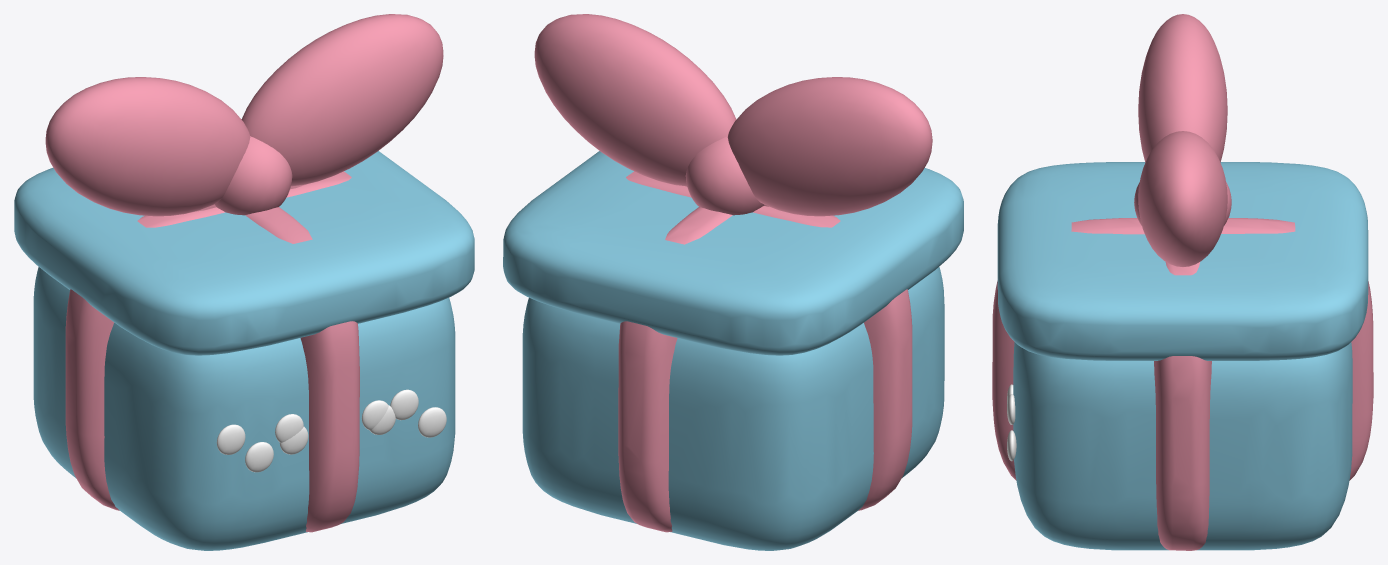
Rendered from regalo_cajita.glb.
3 renders of one model, left to right at view 1: azimuth 30°, elevation 25°; view 2: azimuth 150°, elevation 25°; view 3: azimuth 270°, elevation 25°, orthographic. The views are drawn at different scales.
Visible parts, largest first — view 1: cajita, tapa cajita, oreja moño.004, oreja moño.005, cinta y, cinta x, nudo moño.002, punto regalo 8, punto regalo 4, punto regalo 9, punto regalo 5, punto regalo 7; view 2: cajita, tapa cajita, oreja moño.004, oreja moño.005, cinta y, cinta x, nudo moño.002; view 3: tapa cajita, cajita, cinta x, oreja moño.004, oreja moño.005, cinta y.
Part boxes in pixels (x1=…): cajita: x1=33, y1=267, x2=455, y2=550; tapa cajita: x1=14, y1=151, x2=474, y2=355; oreja moño.004: x1=45, y1=77, x2=250, y2=216; oreja moño.005: x1=241, y1=14, x2=443, y2=186; cinta y: x1=245, y1=207, x2=359, y2=532; cinta x: x1=65, y1=171, x2=351, y2=510; nudo moño.002: x1=214, y1=136, x2=292, y2=215; punto regalo 8: x1=418, y1=407, x2=446, y2=437; punto regalo 4: x1=245, y1=442, x2=273, y2=472; punto regalo 9: x1=216, y1=424, x2=245, y2=454; punto regalo 5: x1=390, y1=389, x2=418, y2=420; punto regalo 7: x1=275, y1=414, x2=303, y2=442; cajita: x1=522, y1=267, x2=944, y2=550; tapa cajita: x1=503, y1=151, x2=963, y2=355; oreja moño.004: x1=727, y1=77, x2=932, y2=216; oreja moño.005: x1=534, y1=14, x2=736, y2=186; cinta y: x1=618, y1=207, x2=732, y2=532; cinta x: x1=626, y1=171, x2=912, y2=510; nudo moño.002: x1=685, y1=136, x2=763, y2=215; tapa cajita: x1=997, y1=162, x2=1368, y2=360; cajita: x1=1013, y1=342, x2=1352, y2=550; cinta x: x1=1154, y1=262, x2=1211, y2=550; oreja moño.004: x1=1138, y1=14, x2=1227, y2=162; oreja moño.005: x1=1138, y1=131, x2=1227, y2=266; cinta y: x1=992, y1=218, x2=1373, y2=480.
Size of the model in its own units: 0.3313 by 0.3532 by 0.2918.
